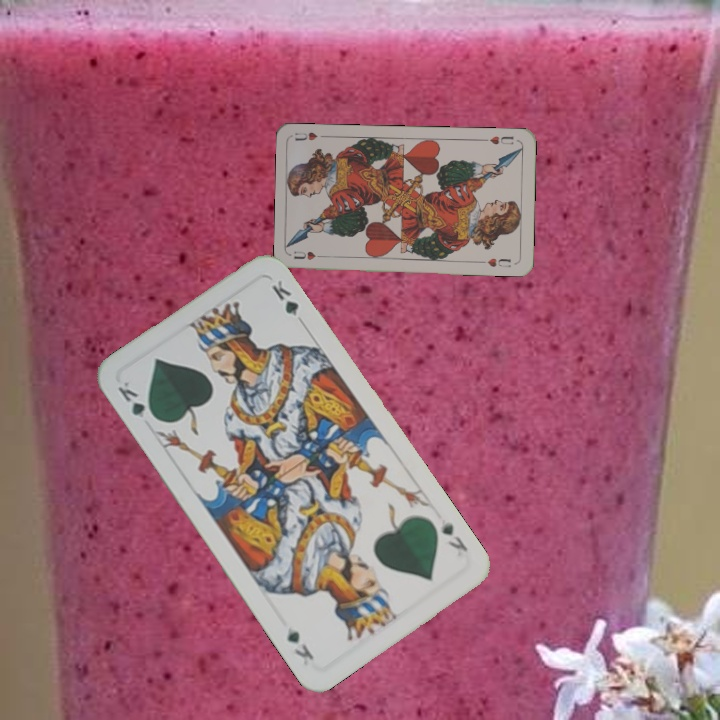GK: (113, 377, 160, 424), (436, 515, 471, 554)
HU: (290, 247, 329, 262), (486, 132, 516, 147)
